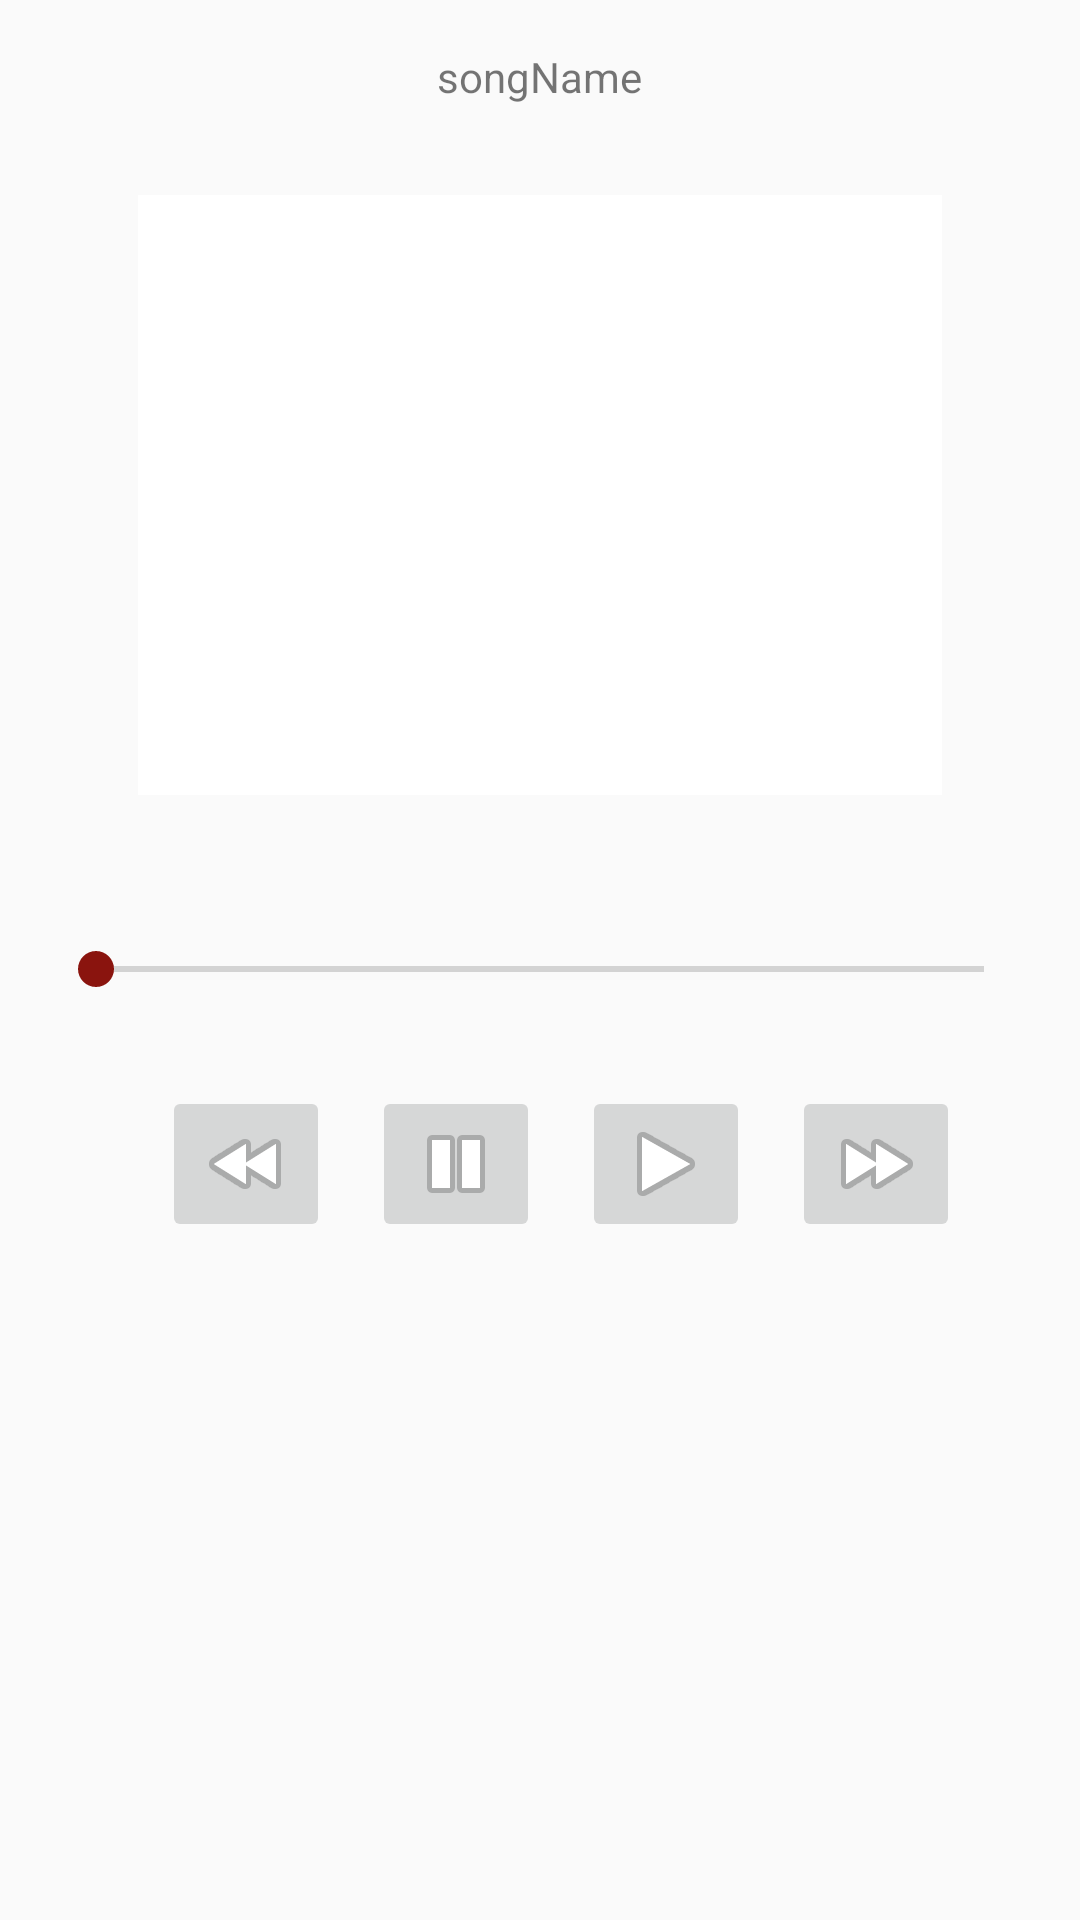

Locate icon controls on the screen. Image size 1080x1920, boxes as (x1, y1, x2, y2).
pause: (384, 1104, 528, 1224)
play: (594, 1104, 738, 1224)
rew: (174, 1104, 318, 1224)
